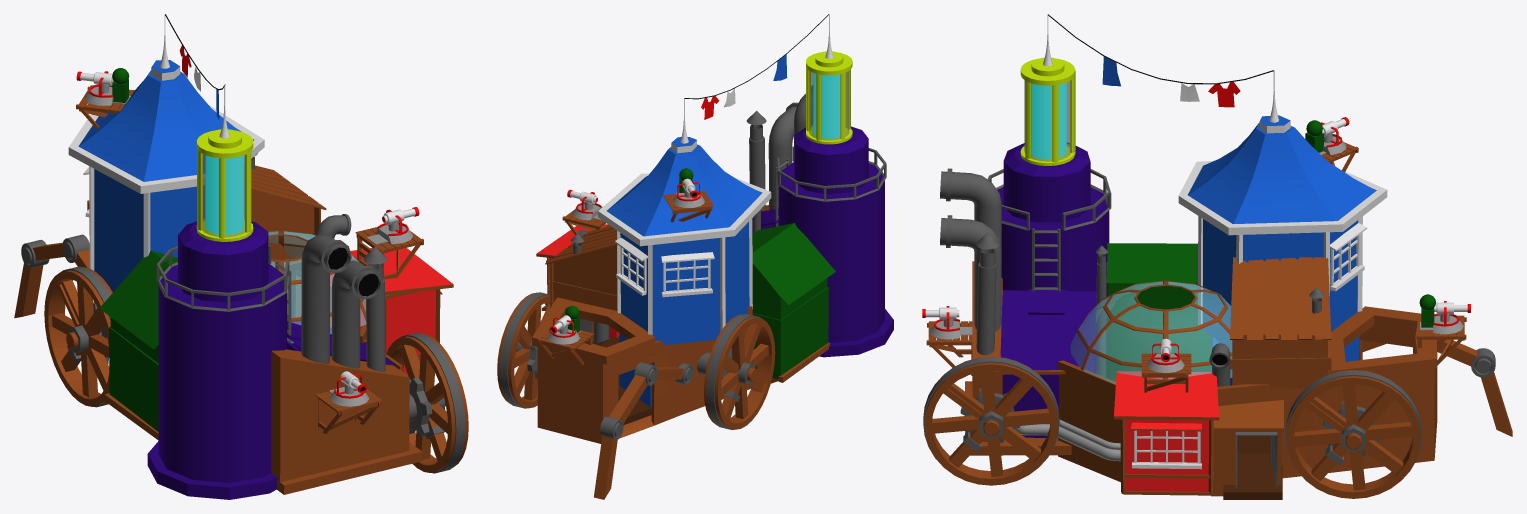
File: casa_rodante.FBX
The picture shows the model from 3 angles, left to right: view 1: azimuth 30°, elevation 25°; view 2: azimuth 150°, elevation 25°; view 3: azimuth 270°, elevation 25°; orthographic projection. The views are drawn at different scales.
Parts seen in each view (by area): view 1: BaseCasa, TechoCasa, Cylinder013, Cylinder015, Cylinder021, Energia, Shape004, Cone001, Shape010, Cone005, Cone004, Cylinder016 (+2 smaller); view 2: BaseCasa, TechoCasa, Cylinder013, Cylinder010, Cylinder021, Energia, Cone001, Cone003, Cone004, Shape009, Shape004, Shape008; view 3: TechoCasa, BaseCasa, Cylinder015, Cylinder010, Cylinder021, Energia, Shape004, Cone005, Cone003, Cone001, Shape008, Cone004 (+1 smaller).
Part boxes in pixels (x1,y1,x2,y2): BaseCasa: (94, 84, 442, 499); TechoCasa: (68, 14, 453, 365); Cylinder013: (44, 266, 112, 407); Cylinder015: (386, 332, 468, 473); Cylinder021: (14, 234, 89, 318); Energia: (205, 155, 244, 234); Shape004: (355, 227, 423, 279); Cone001: (366, 207, 419, 244); Shape010: (318, 391, 381, 433); Cone005: (329, 371, 369, 406); Cone004: (76, 71, 130, 105); Cylinder016: (406, 374, 432, 436); BaseCasa: (537, 14, 893, 443); TechoCasa: (532, 14, 835, 364); Cylinder013: (697, 313, 775, 429); Cylinder010: (497, 292, 550, 408); Cylinder021: (594, 362, 693, 499); Energia: (813, 73, 840, 138); Cone001: (567, 189, 602, 220); Cone003: (547, 315, 581, 344); Cone004: (673, 178, 704, 207); Shape009: (663, 194, 713, 222); Shape004: (562, 206, 609, 234); Shape008: (537, 332, 593, 365); TechoCasa: (1000, 14, 1437, 420); BaseCasa: (940, 14, 1437, 499); Cylinder015: (923, 356, 1059, 485); Cylinder010: (1285, 370, 1421, 498); Cylinder021: (1362, 339, 1512, 436); Energia: (1031, 83, 1066, 159); Shape004: (1141, 353, 1191, 392); Cone005: (922, 306, 972, 339); Cone003: (1420, 301, 1470, 334); Cone001: (1147, 338, 1184, 373); Shape008: (1416, 315, 1466, 365); Cone004: (1319, 117, 1349, 154).
Size of the model in its own units: 881 by 1058 by 1405.
